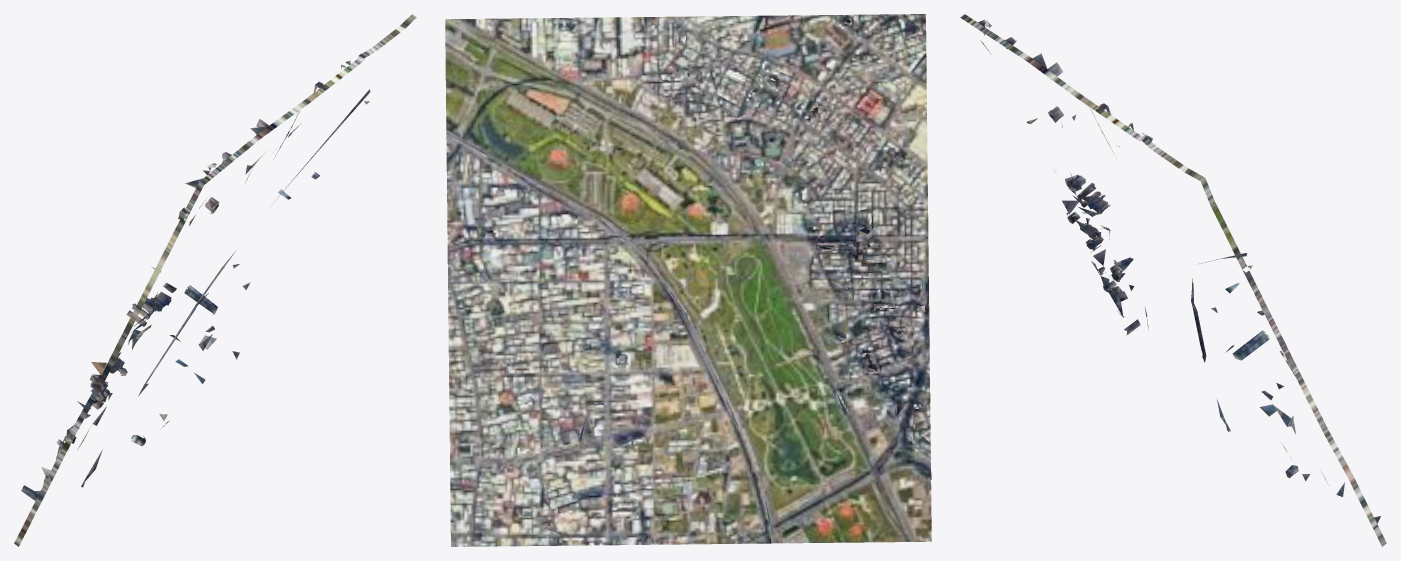
3 renders of one model, left to right at view 1: azimuth 30°, elevation 25°; view 2: azimuth 150°, elevation 25°; view 3: azimuth 270°, elevation 25°, orthographic. The views are drawn at different scales.
Size of the model in its own units: 2445 by 2240 by 2069.
1 material, 1 textured.
